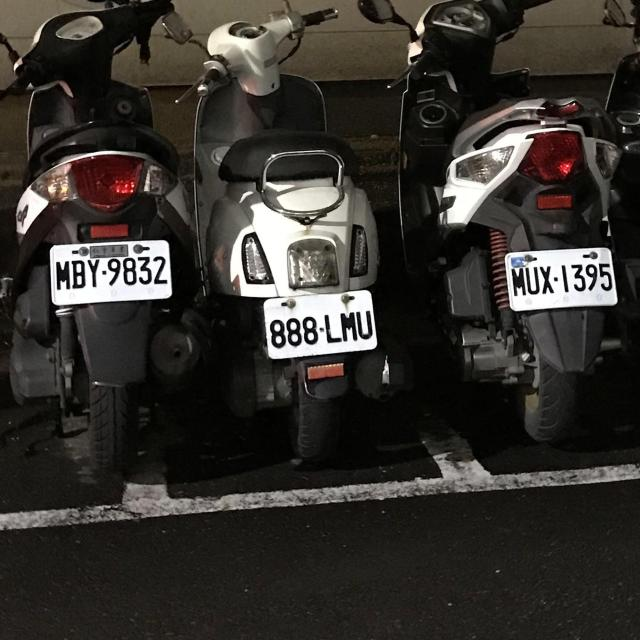W: (258, 284, 380, 362), (500, 241, 620, 314), (48, 237, 174, 304)
